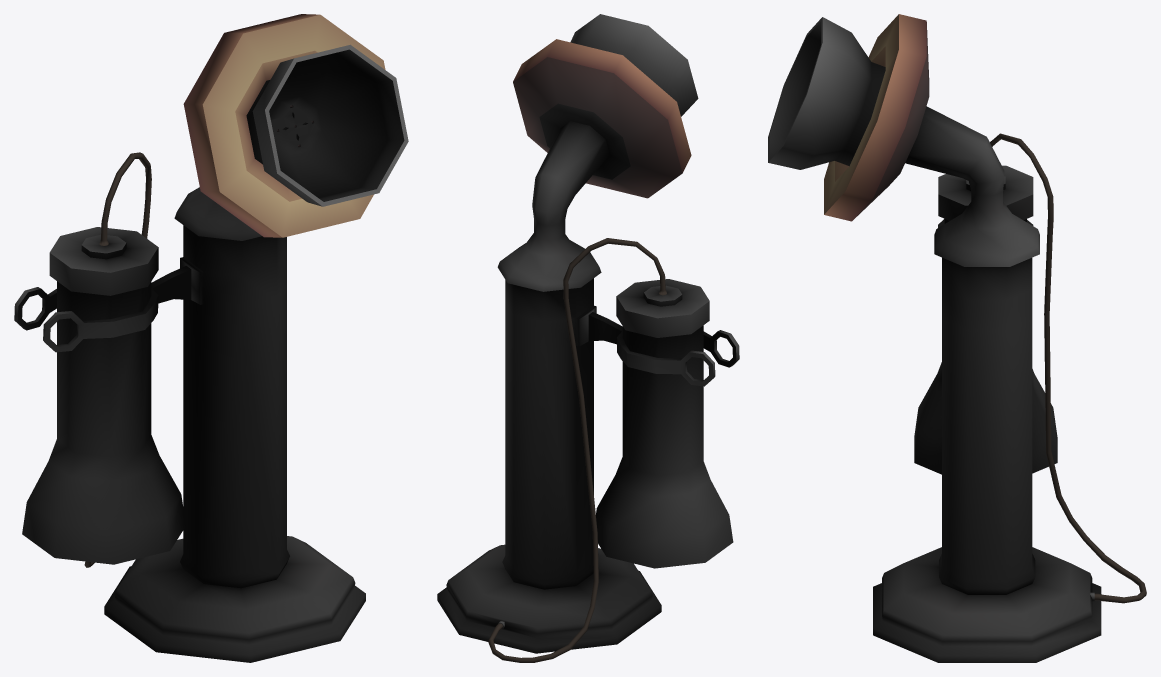
Rendered from human-electronics-candlestick-phone_v1.fbx.
3 renders of one model, left to right at view 1: azimuth 30°, elevation 25°; view 2: azimuth 150°, elevation 25°; view 3: azimuth 270°, elevation 25°, orthographic. The views are drawn at different scales.
Parts seen in each view (by area): view 1: Candlestick Phone; view 2: Candlestick Phone; view 3: Candlestick Phone.
Boxes of the visible parts, x1,y1,x2,y2 form: Candlestick Phone: (14,14,408,662); Candlestick Phone: (437,14,739,662); Candlestick Phone: (768,14,1146,662).
Size of the model in its own units: 0.1575 by 0.3 by 0.1761.
